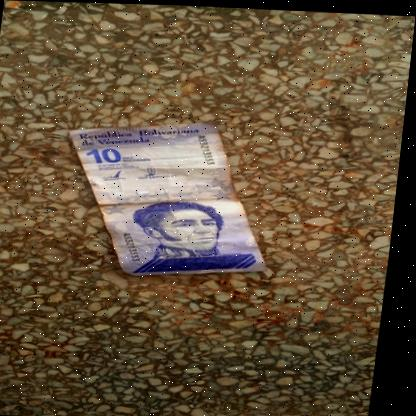ten-front-vef: (54, 117, 286, 280)
